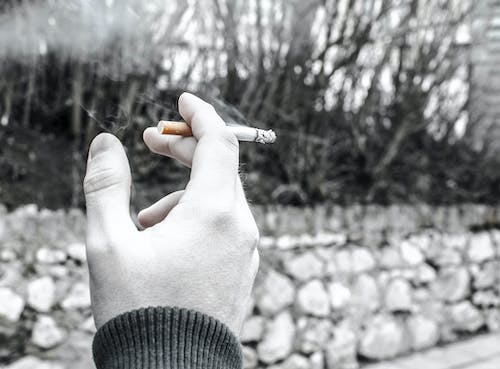cigarette: (153, 119, 278, 145)
